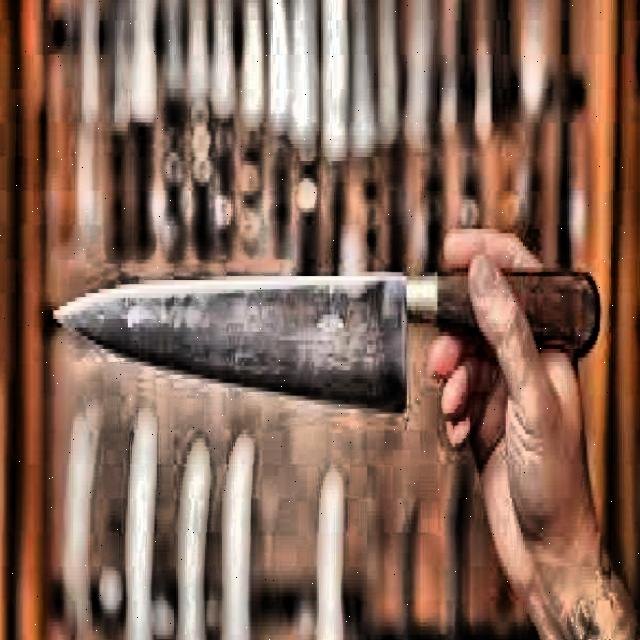knife: (47, 253, 607, 433)
